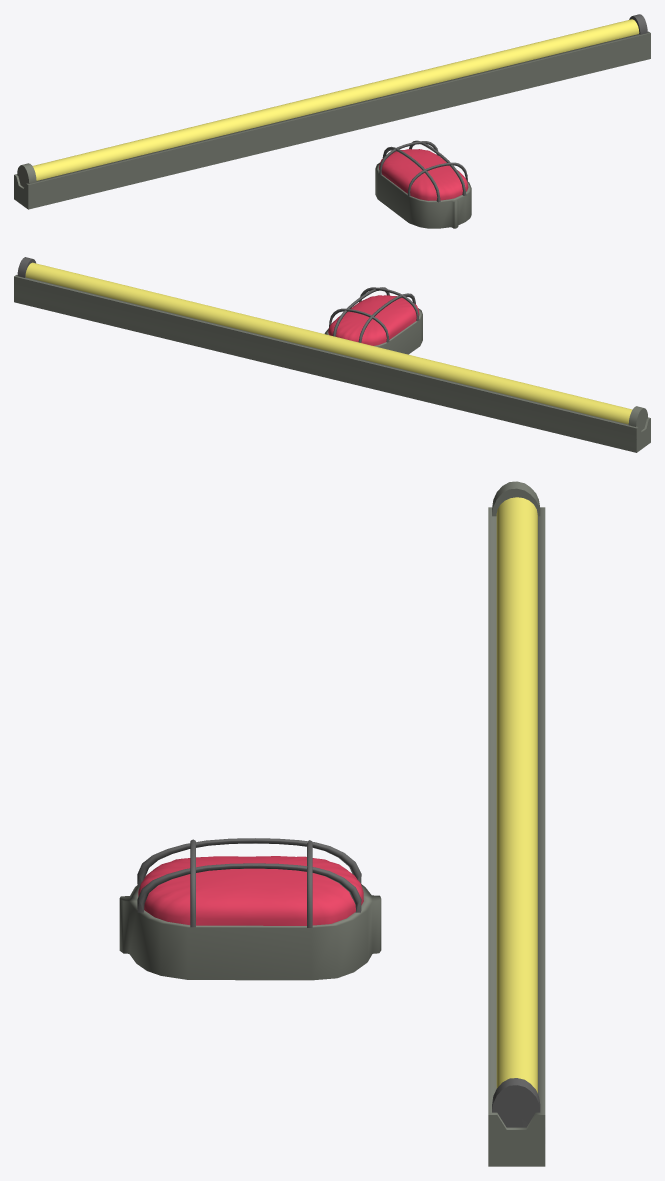
File: LightingProps_SeamMarked.fbx
3 views of the same model, one above another, from view 1: azimuth 30°, elevation 25°; view 2: azimuth 150°, elevation 25°; view 3: azimuth 270°, elevation 25° (orthographic). The views are drawn at different scales.
Parts seen in each view (by area): view 1: Light_Base, Main_Light, polySurface1, Outer_Part_1; view 2: Light_Base, Main_Light, polySurface1, Outer_Part_1; view 3: polySurface1, Main_Light, Light_Base, Outer_Part_2, polySurface5, polySurface4.
Boxes of the visible parts, x1,y1,x2,y2 form: Light_Base: (14, 31, 650, 209); Main_Light: (32, 19, 639, 180); polySurface1: (375, 149, 471, 228); Outer_Part_1: (17, 163, 36, 187); Light_Base: (14, 275, 650, 452); Main_Light: (25, 262, 632, 424); polySurface1: (324, 295, 422, 354); Outer_Part_1: (628, 406, 647, 430); polySurface1: (119, 856, 381, 980); Main_Light: (496, 497, 537, 1093); Light_Base: (488, 507, 545, 1166); Outer_Part_2: (492, 1078, 540, 1127); polySurface5: (137, 863, 361, 912); polySurface4: (137, 838, 361, 887).
Size of the model in its own units: 268 by 29.5 by 79.41.
